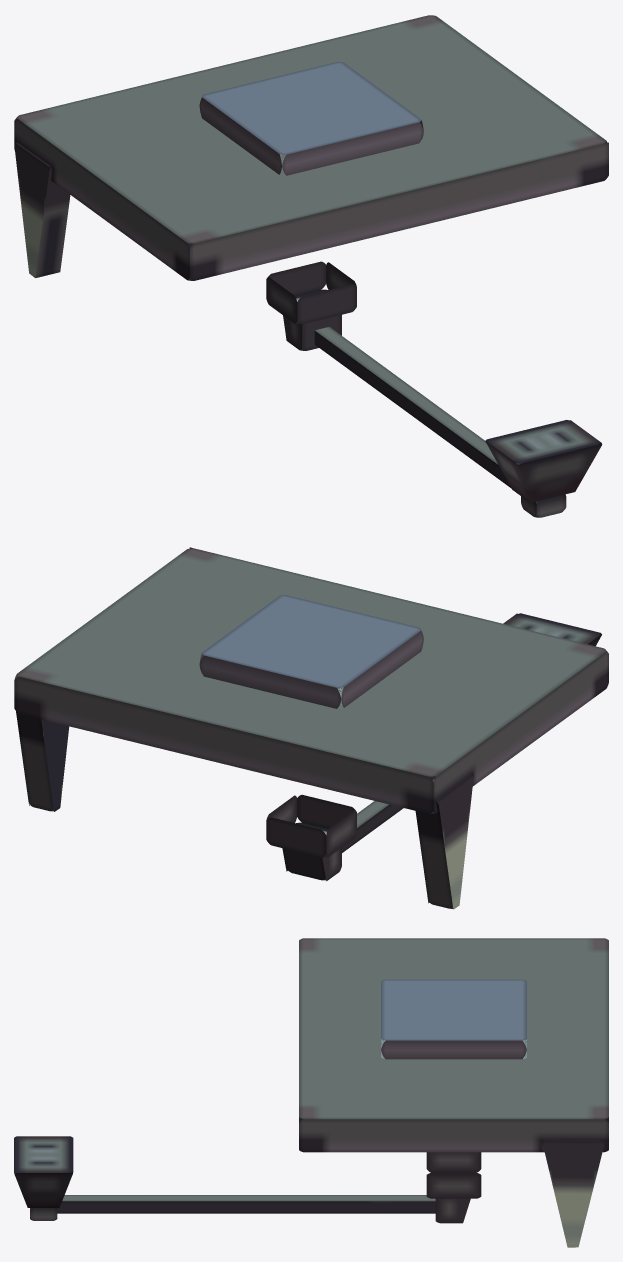
Rendered from ss8_top_a.obj.
3 views of the same model, one above another, from view 1: azimuth 30°, elevation 25°; view 2: azimuth 150°, elevation 25°; view 3: azimuth 270°, elevation 25° (orthographic). The views are drawn at different scales.
Parts seen in each view (by area): view 1: cube; view 2: cube; view 3: cube.
Boxes of the visible parts, x1,y1,x2,y2 form: cube: (14,15,608,517); cube: (14,547,608,909); cube: (14,938,608,1247).
Bounding box in the file's own units: 2.97 × 1.55 × 4.08.
